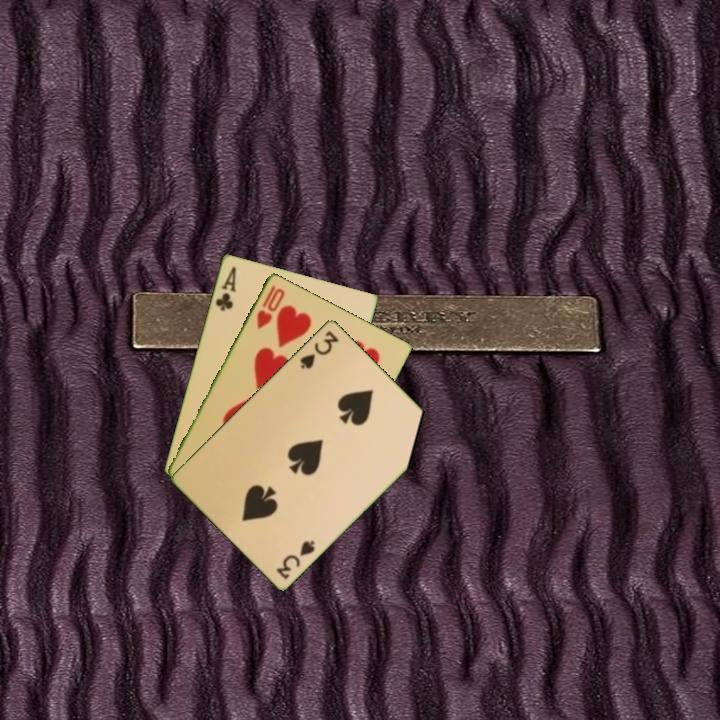10h: (253, 281, 288, 332)
3s: (296, 327, 342, 372), (273, 536, 318, 582)
Ac: (212, 263, 239, 313)
